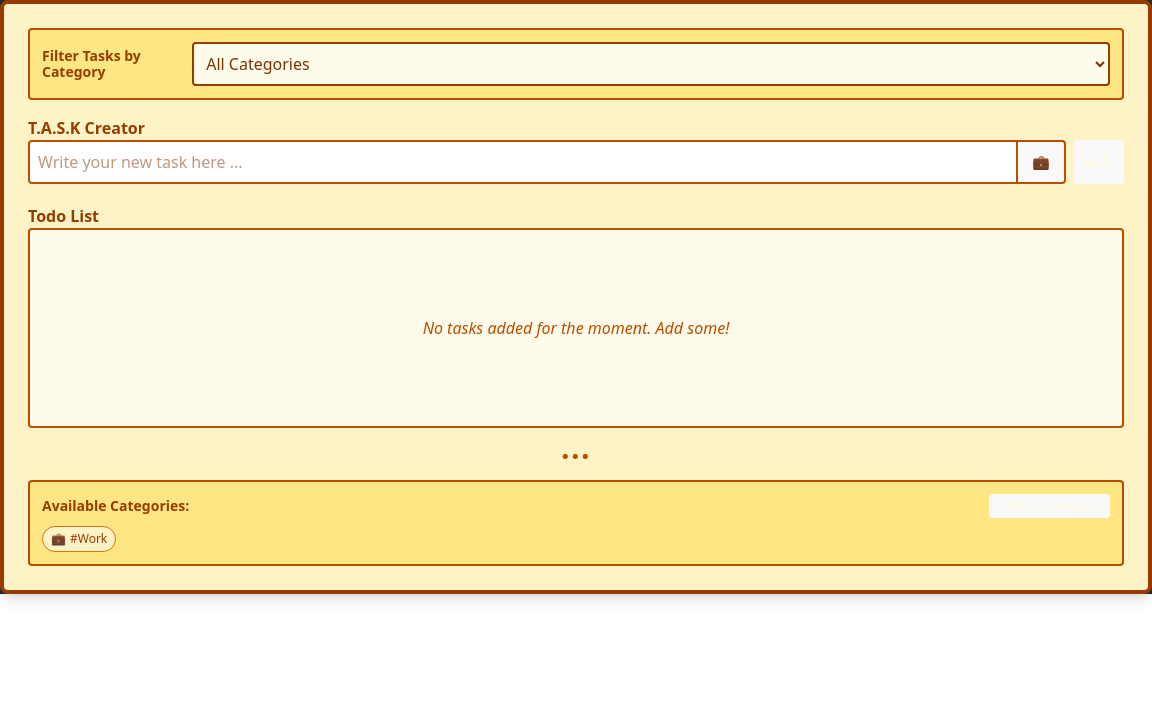
AddTaskForm (inside Main) › shows a validation error when submitting with an empty input
Click the button "↵" at (1099, 162), box [1074,140,1124,184]
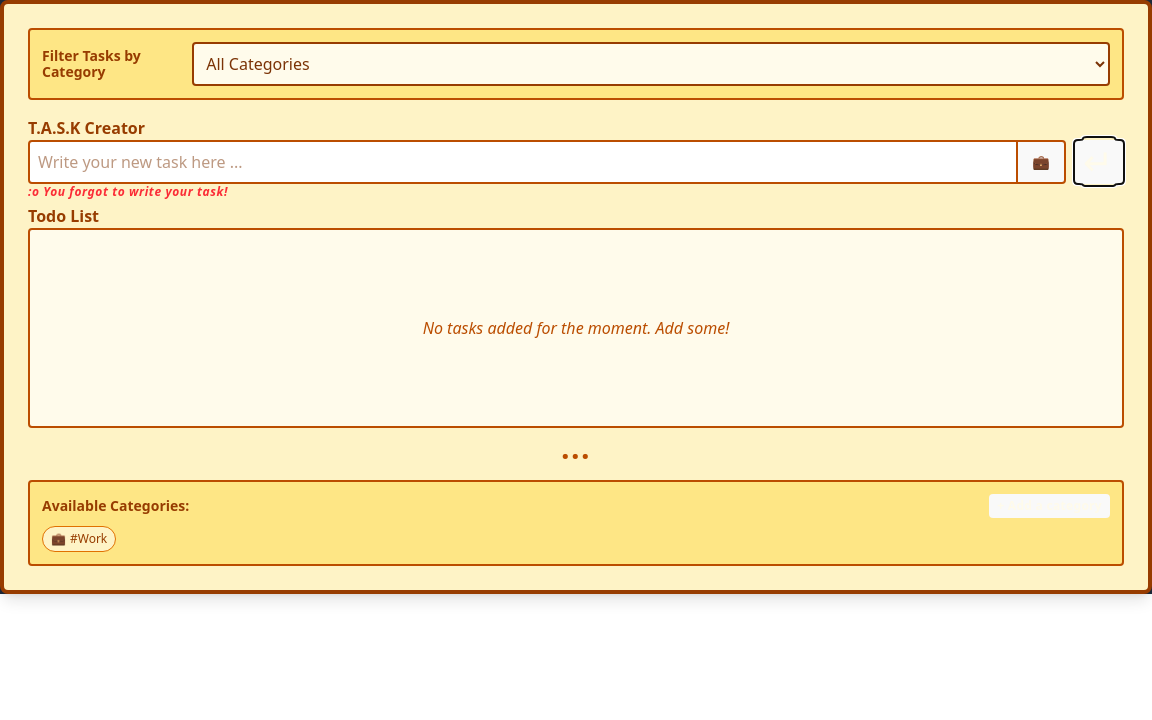
Expected: the text ":o You forgot to write your task!" is shown, [28,183,228,200]
